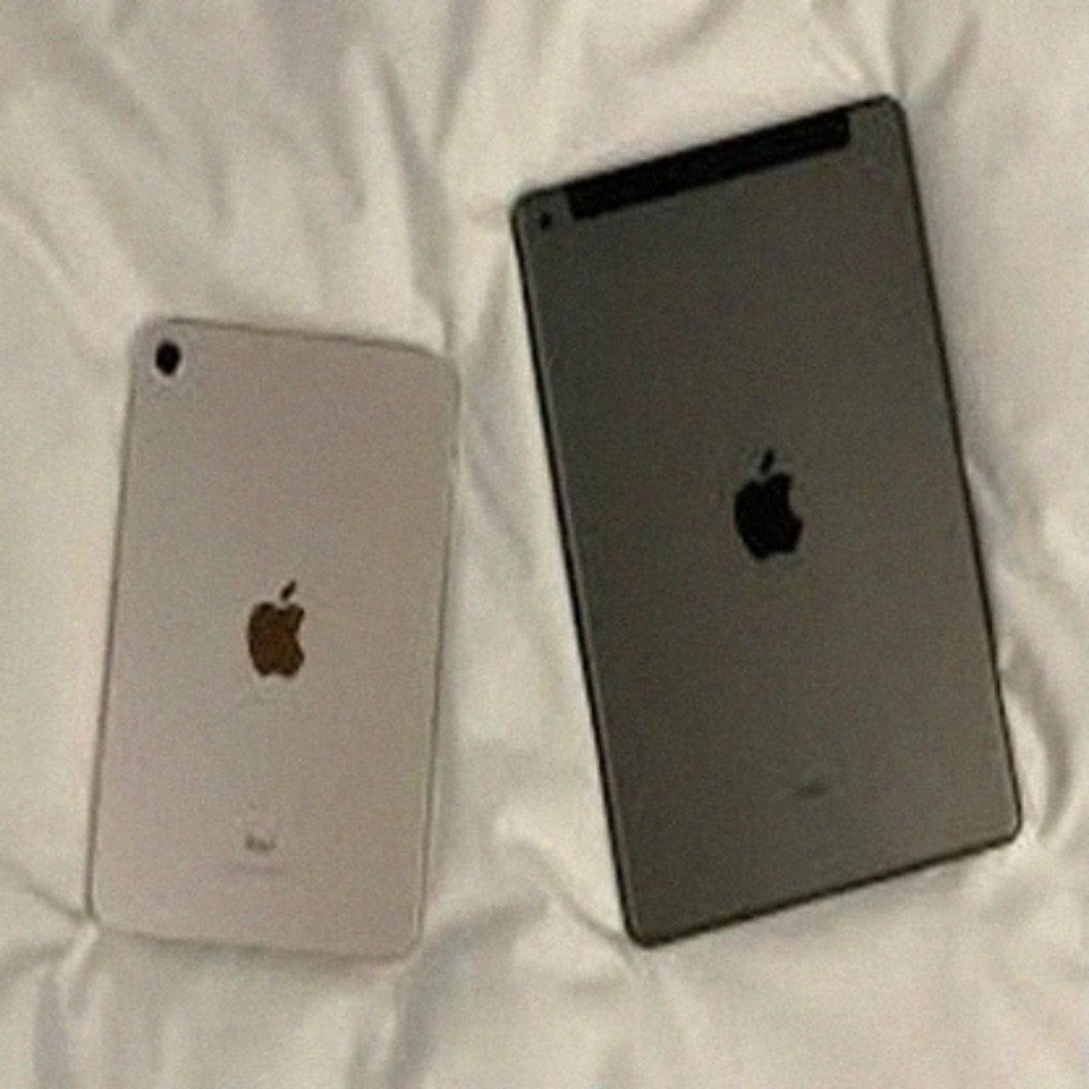Tablet_PC: (498, 87, 1029, 972), (81, 301, 458, 987)
